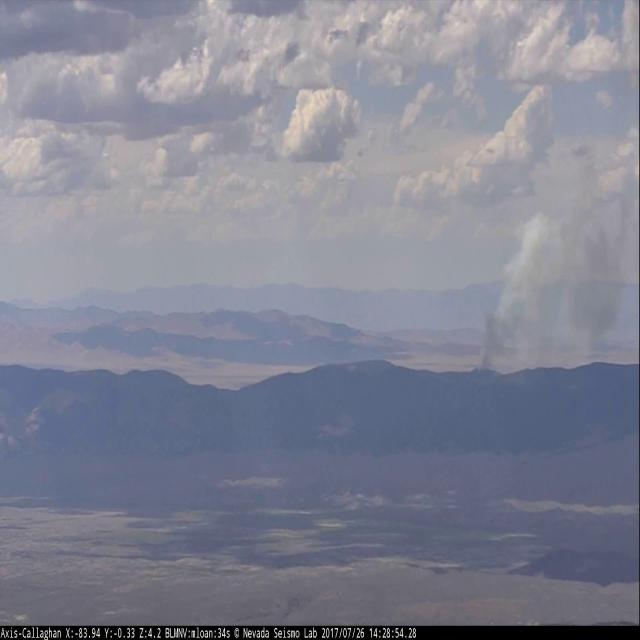smoke: (471, 128, 640, 373)
